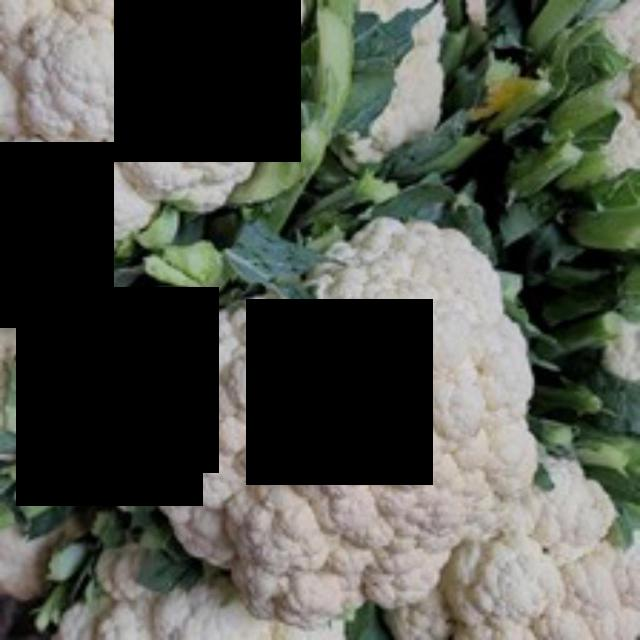cauliflower: (139, 207, 552, 630)
